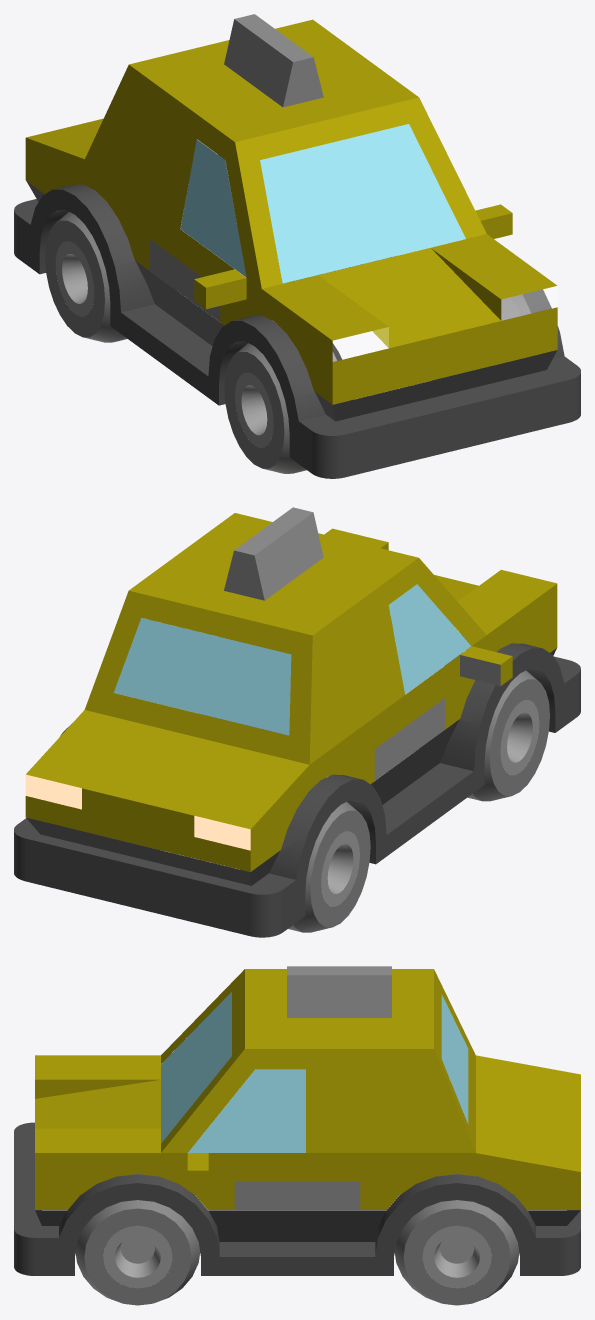
The model's file is Taxi.glb.
3 views of the same model, one above another, from view 1: azimuth 30°, elevation 25°; view 2: azimuth 150°, elevation 25°; view 3: azimuth 270°, elevation 25° (orthographic). The views are drawn at different scales.
Parts seen in each view (by area): view 1: body, wheel_frontRight, wheel_backRight, wheel_frontLeft; view 2: body, wheel_frontRight, wheel_backRight; view 3: body, wheel_backLeft, wheel_frontLeft.
Boxes of the visible parts, x1,y1,x2,y2 form: body: (14,14,580,478); wheel_frontRight: (224,343,343,473); wheel_backRight: (45,212,127,342); wheel_frontLeft: (439,294,537,378); body: (14,507,580,937); wheel_frontRight: (467,670,549,801); wheel_backRight: (247,801,370,932); body: (14,966,580,1275); wheel_backLeft: (394,1174,519,1305); wheel_frontLeft: (75,1174,200,1305).
Size of the model in its own units: 1.95 by 1.95 by 3.51.
